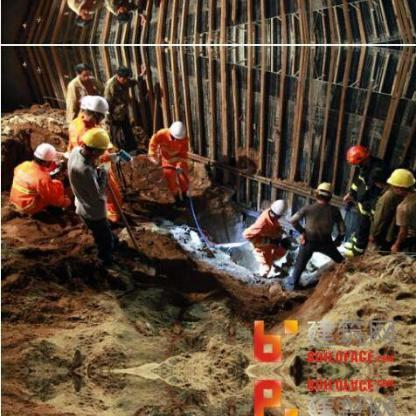helmet: (77, 126, 112, 152), (78, 92, 110, 116), (32, 138, 58, 166), (386, 169, 415, 191), (343, 141, 367, 166), (168, 115, 189, 141), (313, 179, 336, 195), (269, 198, 287, 216)
